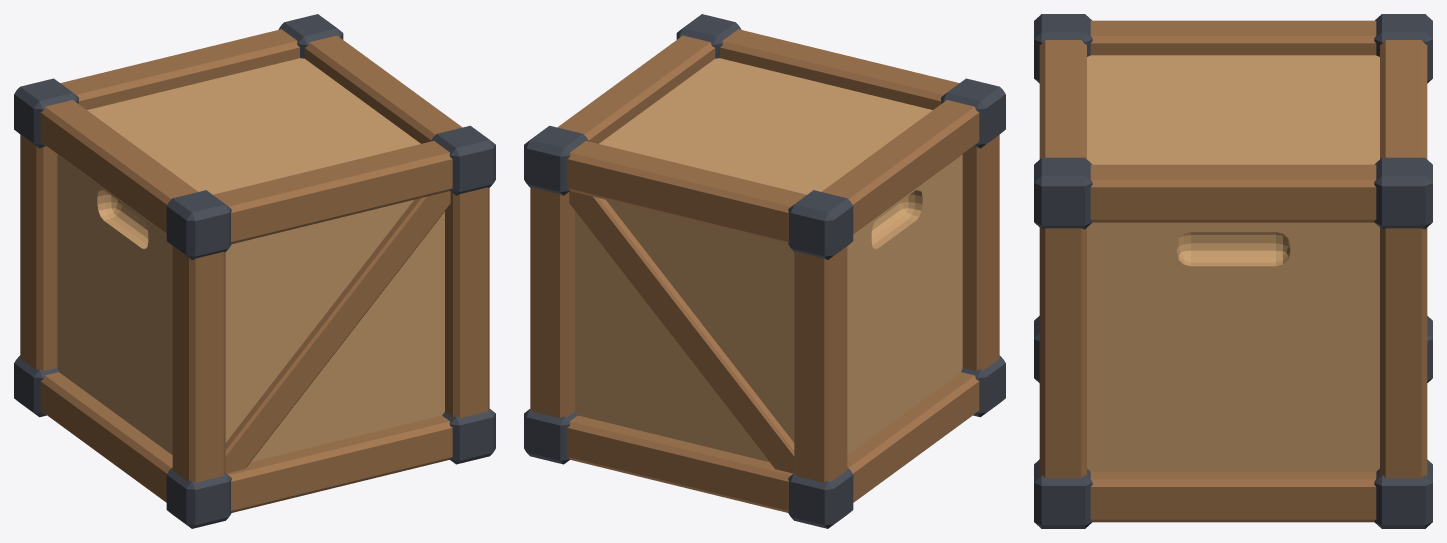
File: crate.glb
3 views of the same model, side by side, from view 1: azimuth 30°, elevation 25°; view 2: azimuth 150°, elevation 25°; view 3: azimuth 270°, elevation 25° (orthographic). The views are drawn at different scales.
Visible parts, largest first — view 1: crate; view 2: crate; view 3: crate.
Boxes of the visible parts, x1=… form: crate: x1=14, y1=14, x2=495, y2=528; crate: x1=524, y1=14, x2=1005, y2=528; crate: x1=1034, y1=14, x2=1432, y2=528.
Bounding box in the file's own units: 4.22 × 4.12 × 4.22.
1 material, 1 textured.
